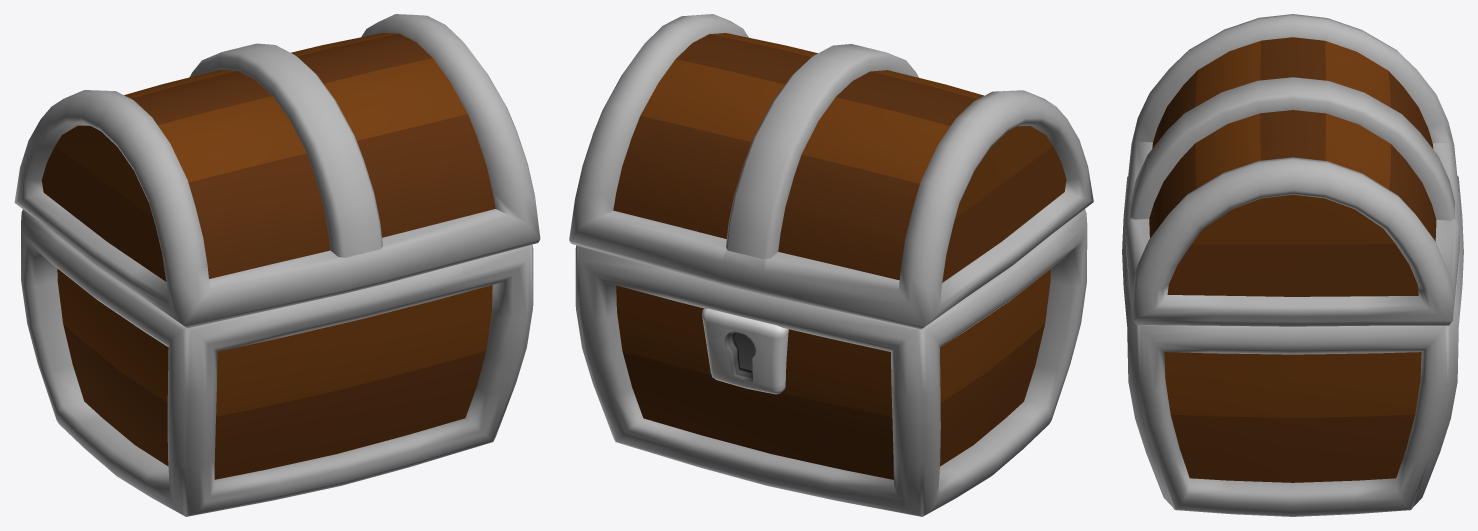
Rendered from Trasure_Chest_V1_0.fbx.
The picture shows the model from 3 angles, left to right: view 1: azimuth 30°, elevation 25°; view 2: azimuth 150°, elevation 25°; view 3: azimuth 270°, elevation 25°; orthographic projection. The views are drawn at different scales.
Parts seen in each view (by area): view 1: Trasure_Chest_V1_0; view 2: Trasure_Chest_V1_0; view 3: Trasure_Chest_V1_0.
Boxes of the visible parts, <box> form: Trasure_Chest_V1_0: <box>14,14,540,516</box>; Trasure_Chest_V1_0: <box>569,14,1093,516</box>; Trasure_Chest_V1_0: <box>1122,14,1463,516</box>.
Size of the model in its own units: 0.4473 by 0.4389 by 0.3773.
